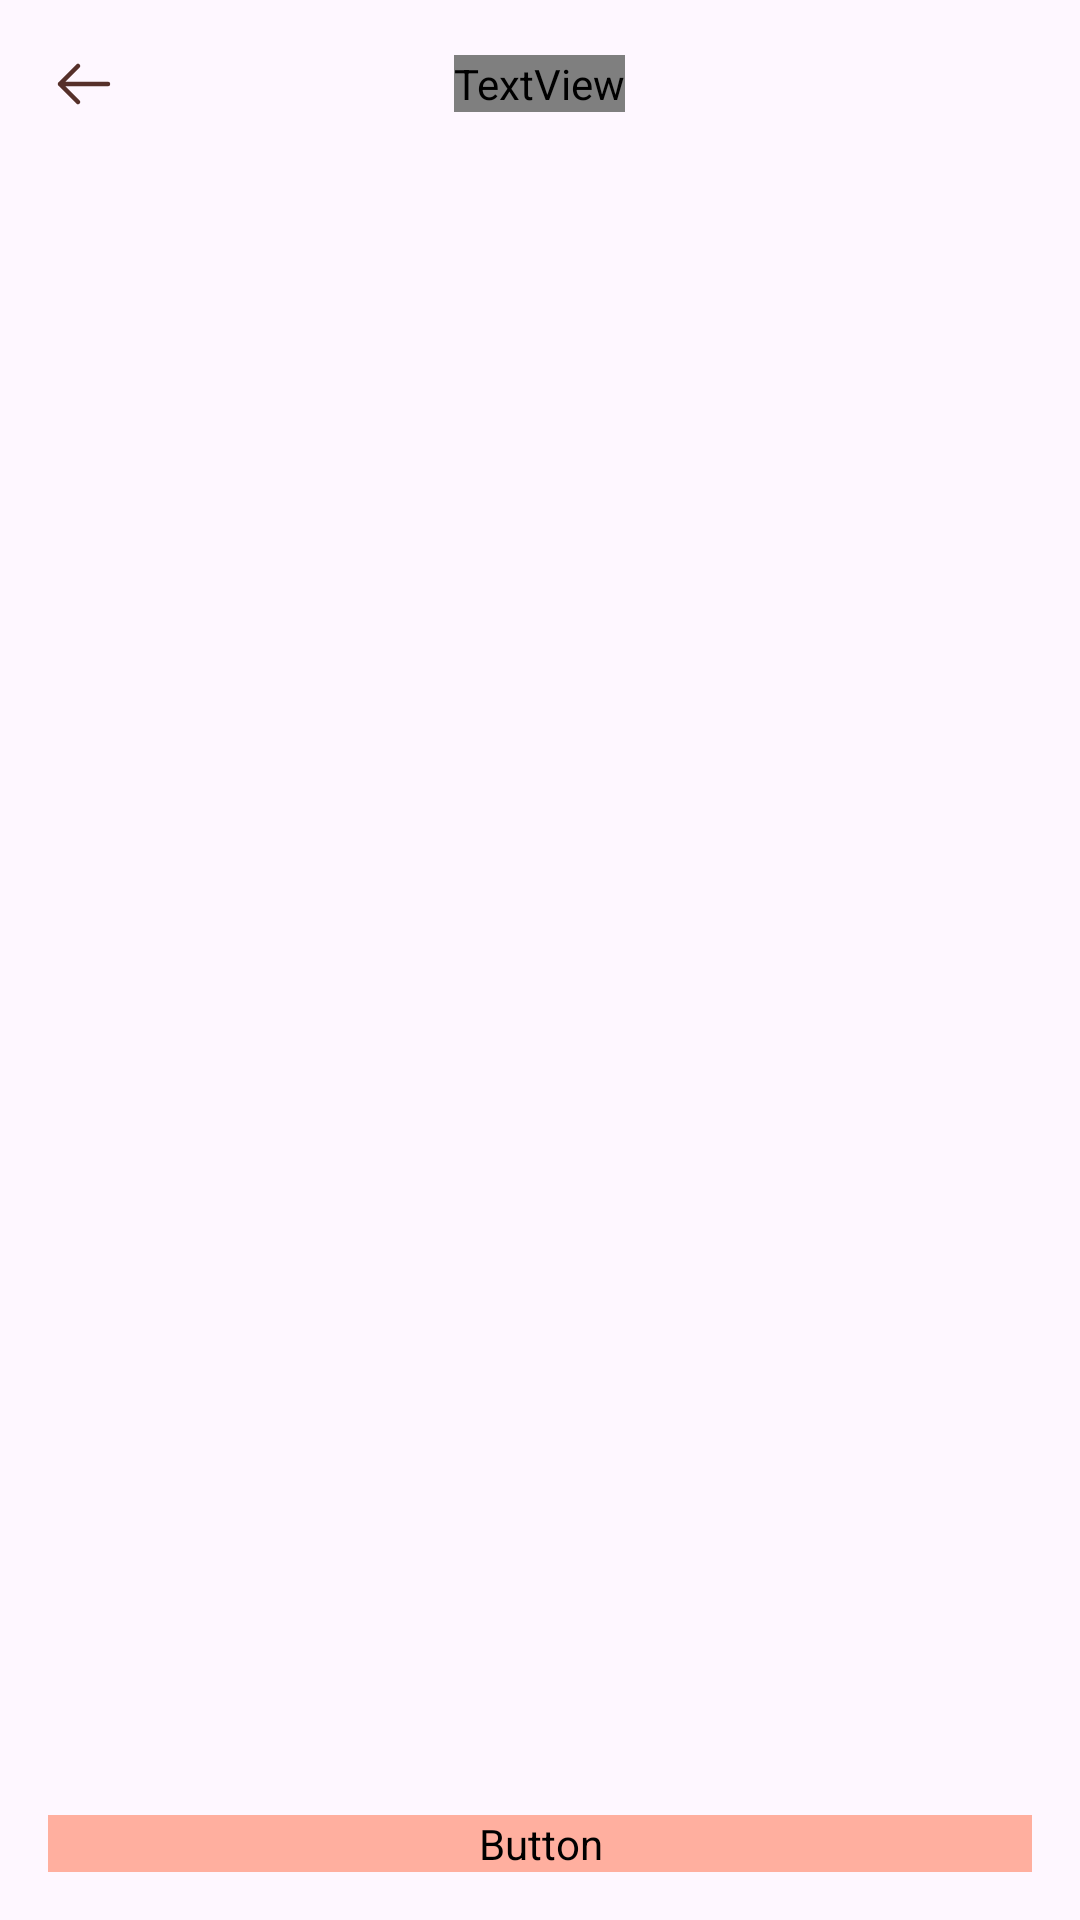

Screen size 1080w x 1920h. Icon name, then its box in pixels as (left=x1, top=y1, right=x2, bottom=y2):
back: (left=57, top=63, right=110, bottom=105)
